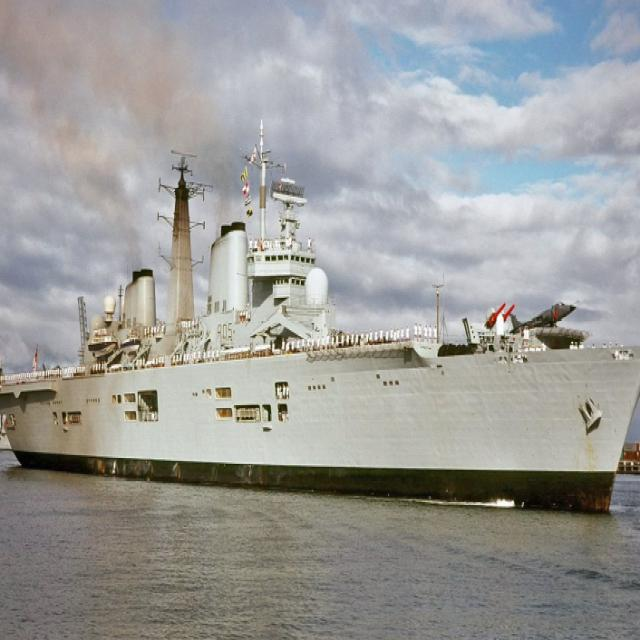Portanaves: (1, 114, 640, 541)
